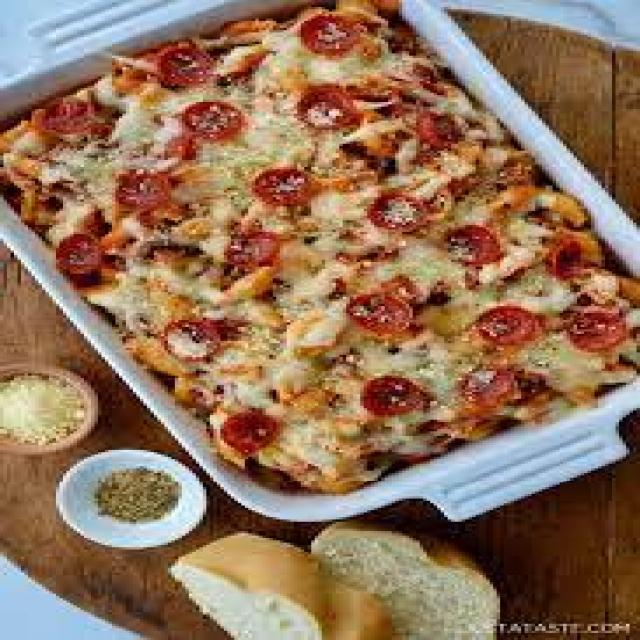Pizza: (0, 48, 640, 515)
